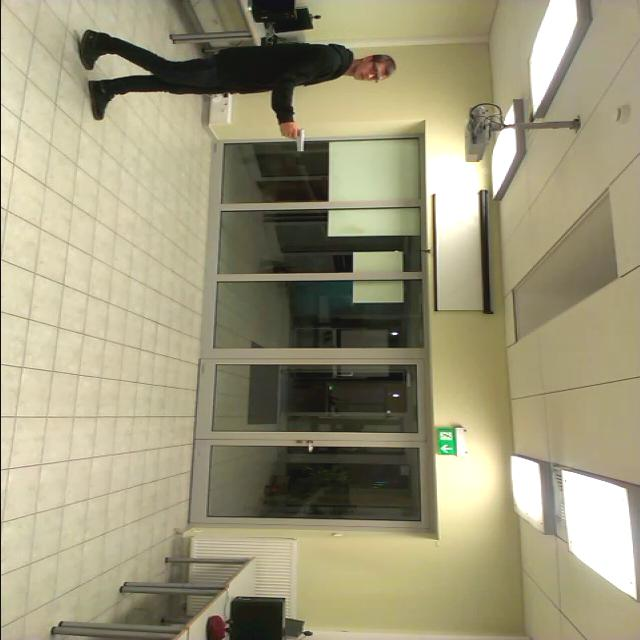handgun: (268, 114, 318, 158)
